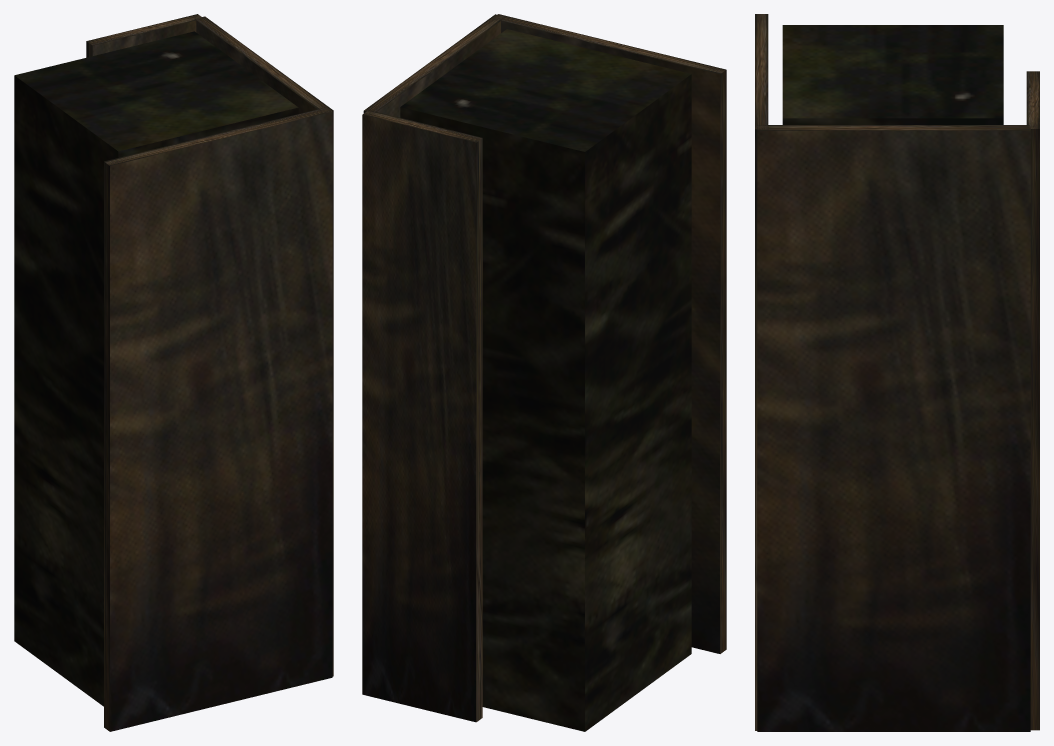
File: arm_cape_leg.obj
The picture shows the model from 3 angles, left to right: view 1: azimuth 30°, elevation 25°; view 2: azimuth 150°, elevation 25°; view 3: azimuth 270°, elevation 25°; orthographic projection. The views are drawn at different scales.
Parts seen in each view (by area): view 1: arm_cape_leg_Cube.001; view 2: arm_cape_leg_Cube.001; view 3: arm_cape_leg_Cube.001.
Part boxes in pixels (box(x1,y1,x2,y2)): arm_cape_leg_Cube.001: box(14, 14, 333, 731); arm_cape_leg_Cube.001: box(362, 14, 726, 731); arm_cape_leg_Cube.001: box(755, 14, 1039, 731).
Bounding box in the file's own units: 1.25 × 3 × 1.29.
